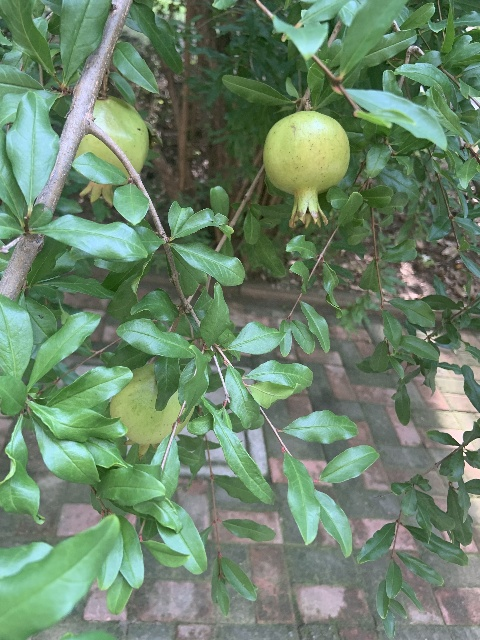mid-growth: (262, 111, 350, 228), (74, 95, 149, 207), (109, 363, 194, 459)
